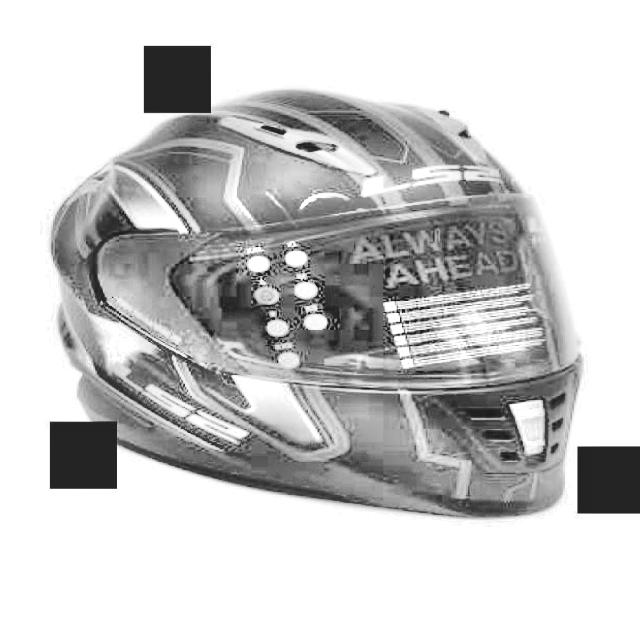Helmet: (42, 84, 574, 541)
